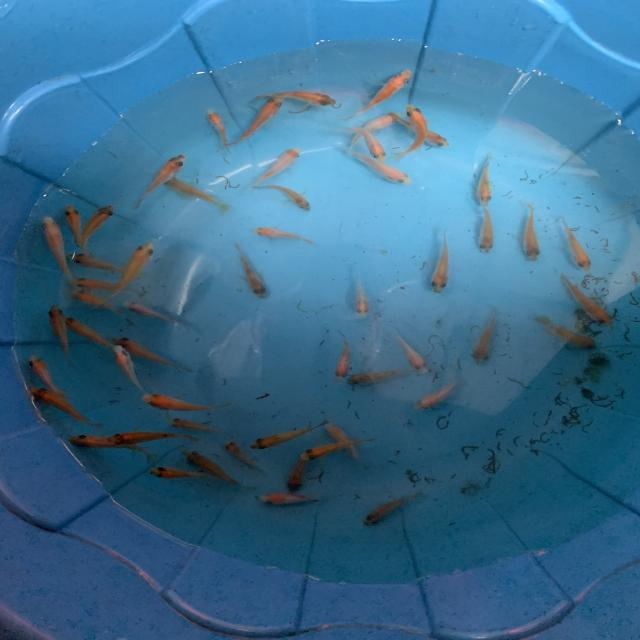nila: (335, 63, 414, 124), (333, 140, 422, 188), (552, 271, 620, 327), (129, 152, 188, 213), (112, 331, 196, 372), (247, 414, 337, 452), (386, 108, 460, 154), (160, 171, 238, 214), (27, 384, 102, 428), (36, 213, 81, 286), (523, 314, 601, 355), (178, 447, 249, 492), (356, 486, 426, 530), (337, 108, 398, 158), (236, 89, 284, 152), (114, 236, 165, 293), (248, 146, 307, 195), (246, 177, 318, 216), (226, 243, 267, 310), (247, 480, 341, 509), (292, 433, 373, 466), (60, 267, 146, 298), (212, 436, 275, 478), (336, 123, 396, 167), (110, 341, 153, 402), (106, 426, 203, 453), (65, 247, 142, 281), (65, 430, 157, 458), (61, 314, 125, 353), (322, 420, 366, 476), (397, 100, 430, 174), (116, 294, 187, 328), (45, 299, 81, 365), (135, 388, 226, 414), (385, 331, 434, 378), (69, 283, 131, 320), (81, 199, 123, 252), (468, 306, 502, 371), (470, 147, 505, 210), (557, 215, 595, 272), (254, 86, 347, 109), (61, 202, 97, 260), (470, 196, 502, 259), (30, 354, 75, 398), (324, 327, 359, 383), (409, 380, 465, 414), (343, 362, 419, 387), (247, 222, 320, 247), (278, 448, 314, 496), (166, 414, 234, 438), (521, 204, 547, 266), (205, 105, 236, 156), (348, 264, 375, 322), (430, 230, 452, 300), (147, 462, 214, 484)
